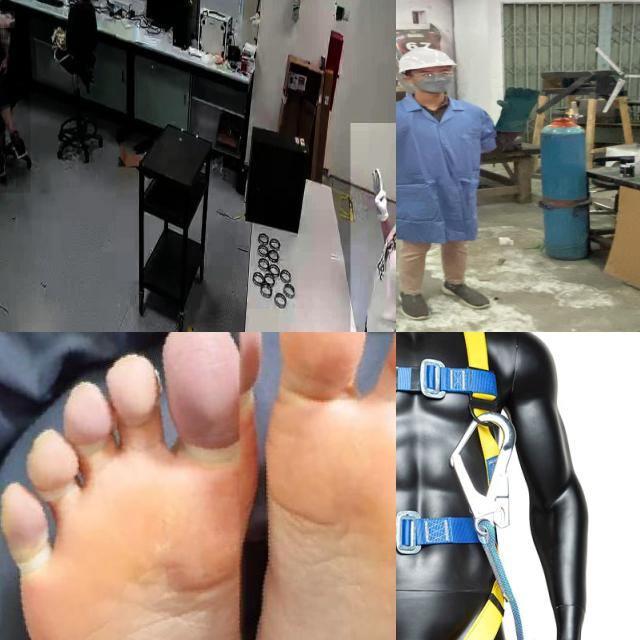Barefoots: (0, 332, 255, 640), (248, 332, 396, 640)
Harness: (396, 332, 513, 640)
face_mask: (412, 68, 460, 96)
glasses: (405, 69, 457, 81)
hand_glove: (494, 85, 548, 120), (369, 161, 391, 236)
hand_noglove: (0, 11, 15, 29), (0, 52, 9, 74)
head_helmet: (396, 45, 461, 73)
person: (396, 45, 554, 332), (350, 123, 396, 332), (0, 0, 30, 194)
shoes: (436, 277, 496, 315), (396, 279, 436, 323), (7, 122, 27, 164), (0, 142, 9, 184)
